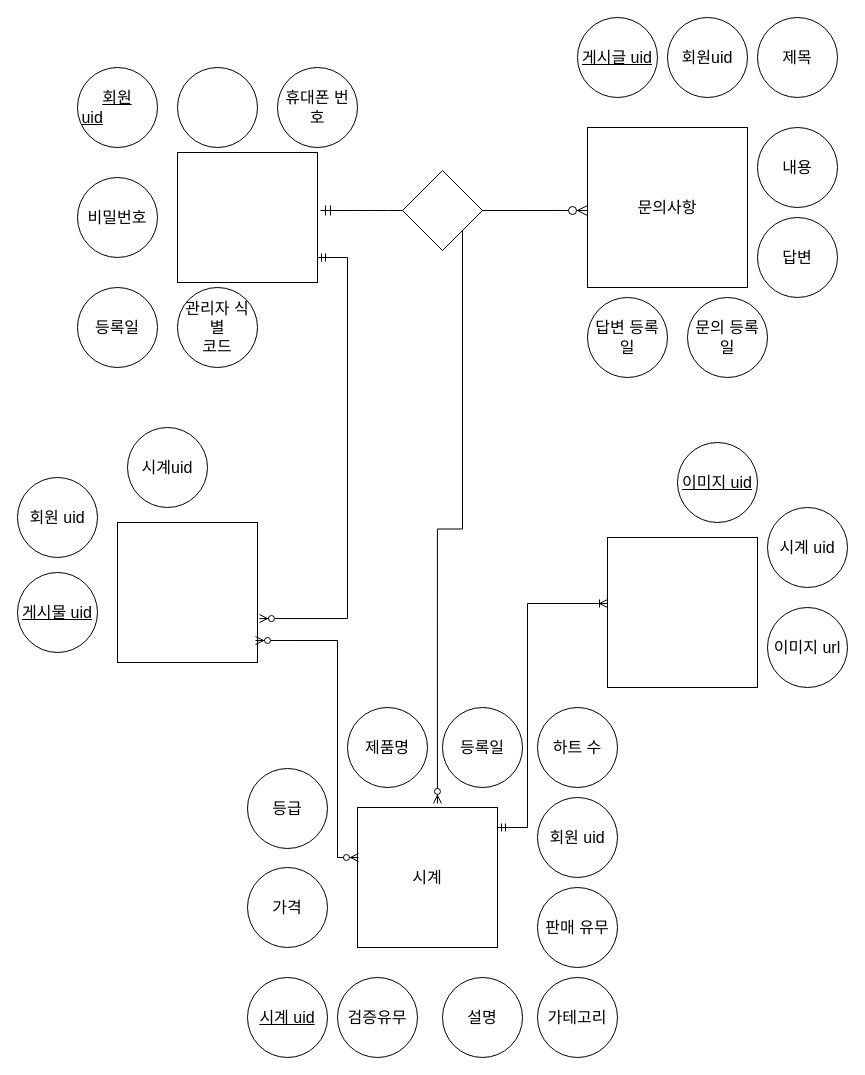
This 865x1075 diagram has some shape labels left out. Each missing label, with the box of its shape:
email: (176, 66, 258, 148)
이미지: (606, 536, 758, 688)
작성: (402, 170, 482, 250)
찜목록/ 구매목록/ 판매요청 목록/ 장바구니: (116, 522, 258, 662)
회원: (176, 152, 318, 282)
